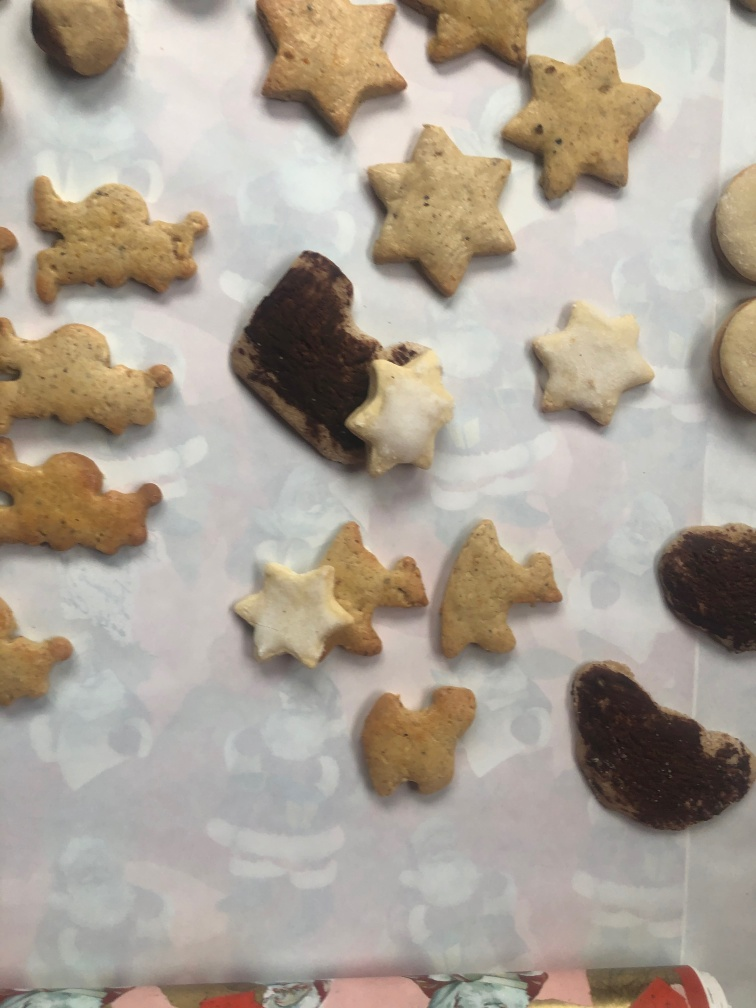christmas shortbread with jam: (710, 162, 756, 288), (713, 296, 756, 417)
lamb: (423, 515, 566, 677), (320, 516, 430, 671), (350, 679, 477, 809)
santa claus: (23, 170, 216, 314), (1, 315, 180, 444), (1, 432, 169, 569), (1, 583, 81, 720)
snowball: (29, 1, 132, 89)
star: (364, 121, 521, 310), (502, 30, 663, 212), (250, 1, 420, 143), (528, 298, 658, 440), (348, 343, 460, 480), (233, 551, 352, 677), (398, 1, 559, 79)
weird #1: (563, 657, 754, 841), (226, 246, 372, 478), (652, 517, 756, 669)
